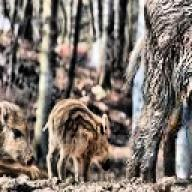boar: (123, 0, 192, 192), (42, 97, 111, 183), (0, 79, 34, 192)
